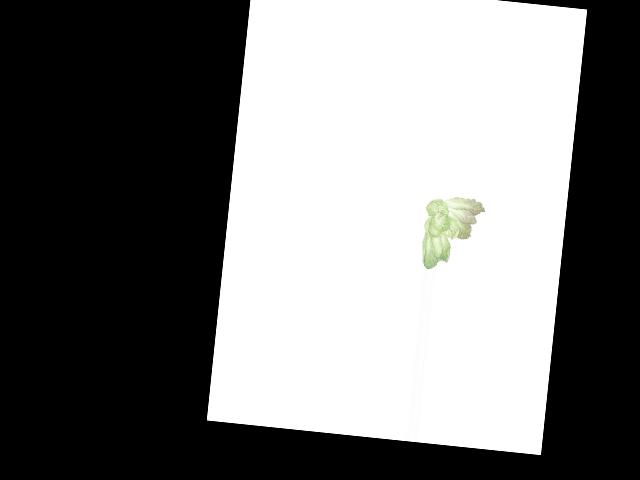lettuce: (415, 192, 489, 275)
